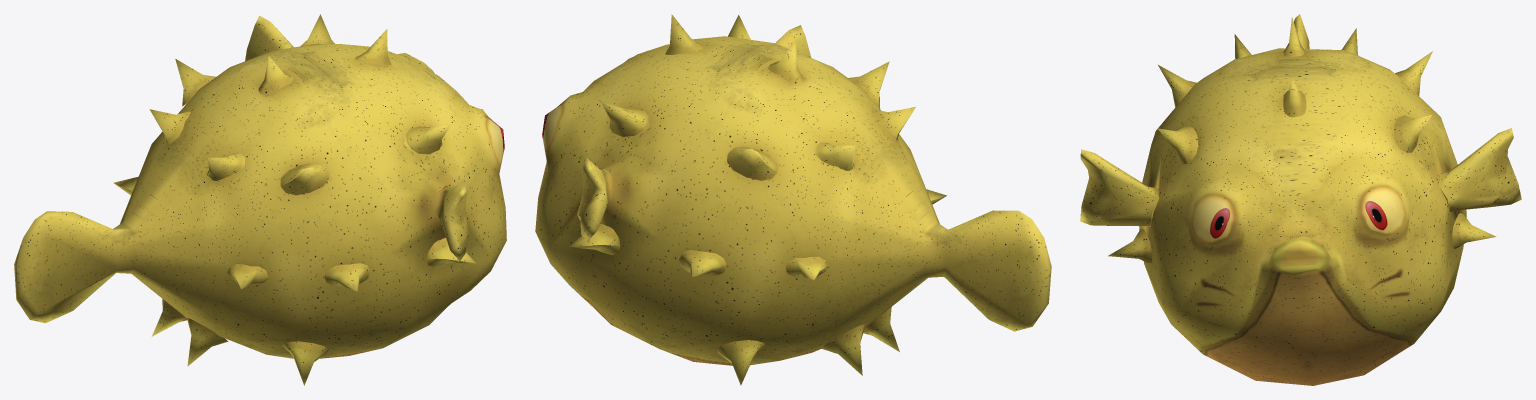
File: pufferfish.glb
The picture shows the model from 3 angles, left to right: view 1: azimuth 30°, elevation 25°; view 2: azimuth 150°, elevation 25°; view 3: azimuth 270°, elevation 25°; orthographic projection. The views are drawn at different scales.
Visible parts, largest first — view 1: PufferFish_0; view 2: PufferFish_0; view 3: PufferFish_0.
Boxes of the visible parts, bbox=[...] form: PufferFish_0: bbox=[14, 14, 506, 385]; PufferFish_0: bbox=[535, 14, 1051, 385]; PufferFish_0: bbox=[1080, 14, 1521, 385].
Bounding box in the file's own units: 15.05 × 9.15 × 11.62.
Materials: 1 (1 with a texture image).
